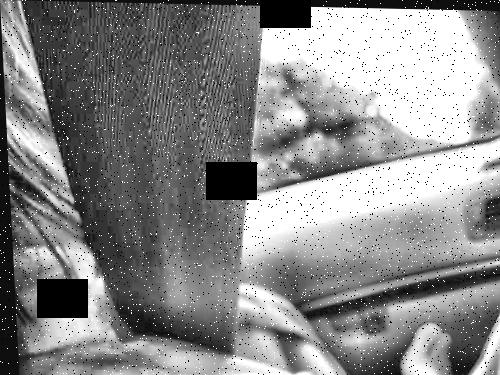seatbelt: (14, 7, 280, 342)
